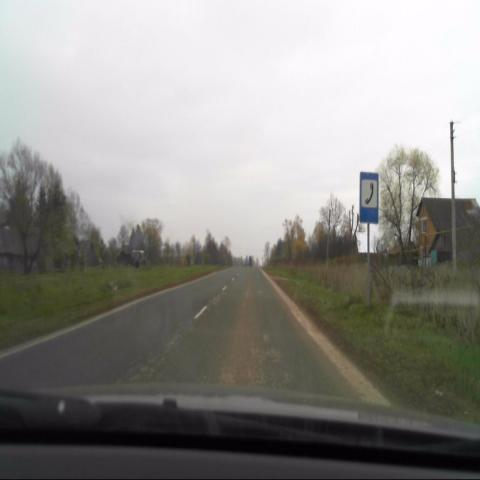7_6: (360, 172, 379, 223)
